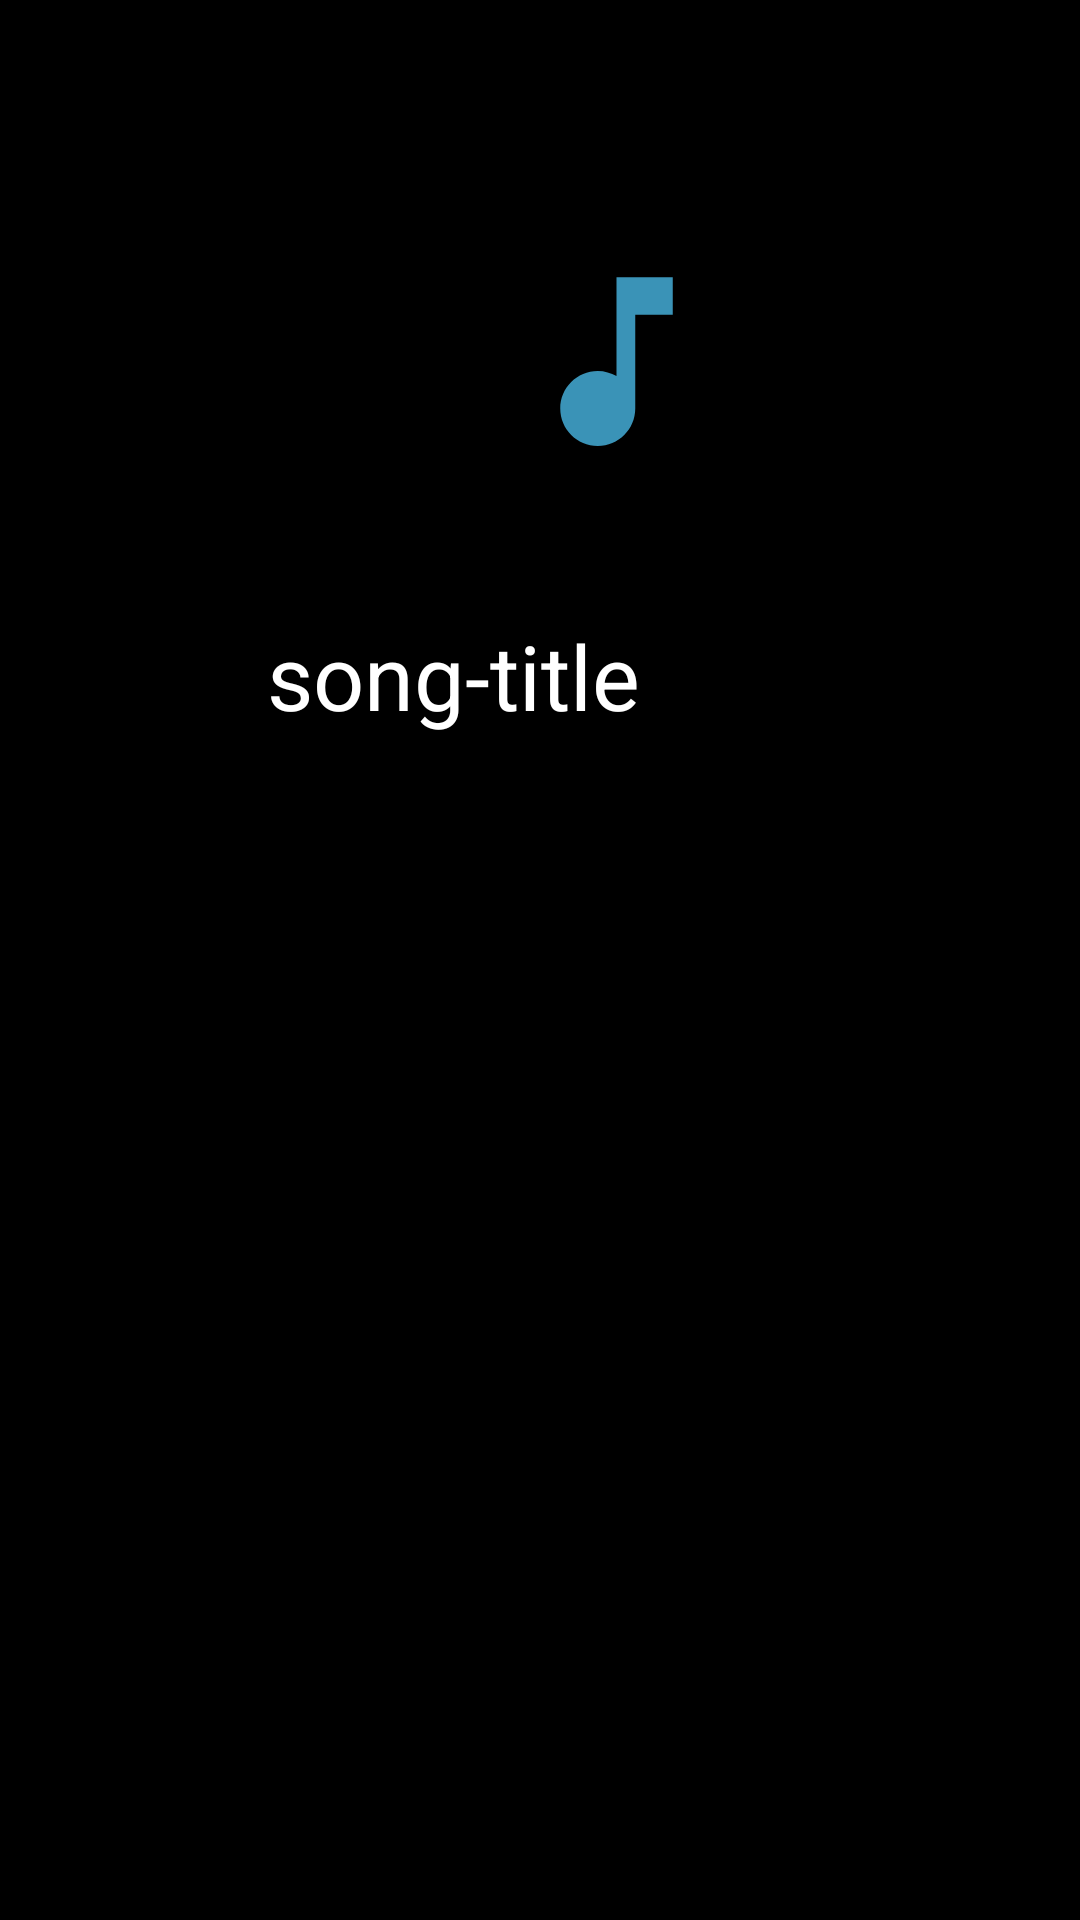

Locate icon controls on the screen. Image size 1080 x 1920, boxes as {"x1": x1, "y1": y1, "x2": x2, "y2": y2}.
music note: {"x1": 560, "y1": 277, "x2": 673, "y2": 446}
